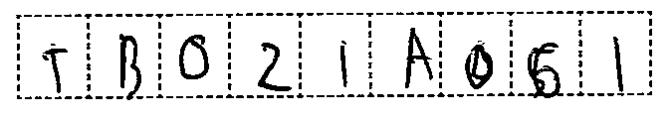0: (171, 31, 213, 86), (461, 38, 498, 92)
1: (598, 31, 640, 90), (322, 35, 360, 88)
2: (249, 40, 294, 94)
6: (521, 37, 566, 96)
A: (395, 23, 437, 90)
B: (110, 29, 148, 93)
T: (34, 41, 76, 95)
